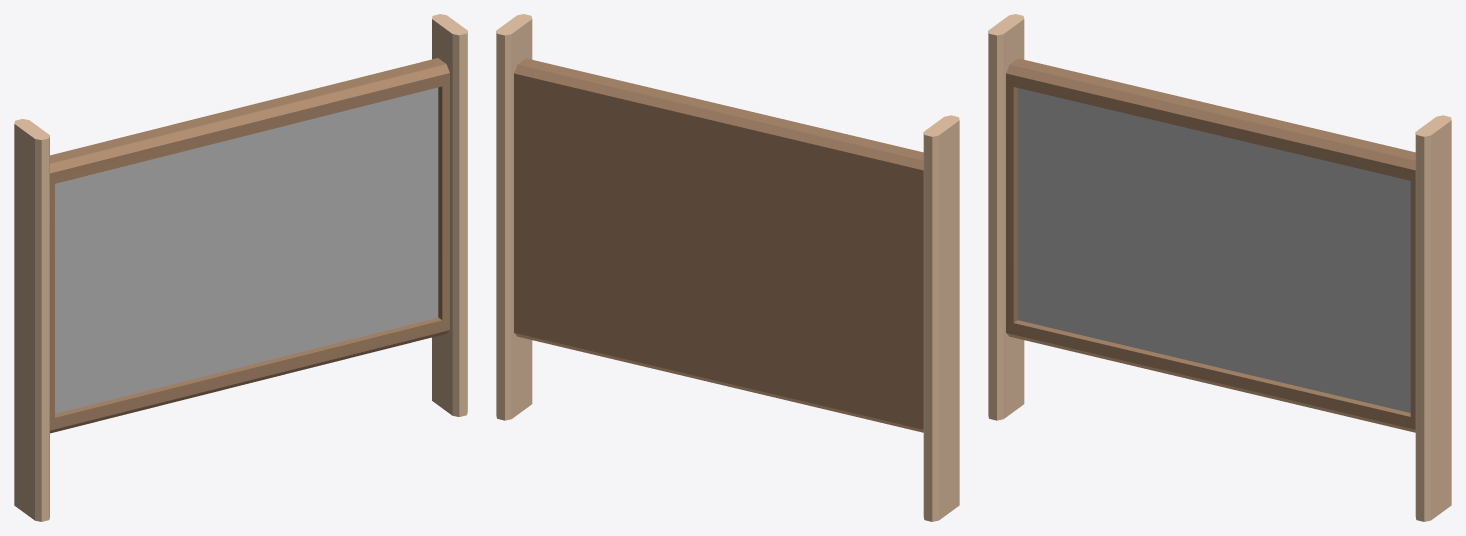
Rendered from Roadside Billboard 2.fbx.
3 views of the same model, side by side, from view 1: azimuth 30°, elevation 25°; view 2: azimuth 150°, elevation 25°; view 3: azimuth 330°, elevation 25° (orthographic).
Visible parts, largest first — view 1: Roadside Billboard 2; view 2: Roadside Billboard 2; view 3: Roadside Billboard 2.
Part boxes in pixels (bbox=[...]): Roadside Billboard 2: bbox=[14, 14, 467, 521]; Roadside Billboard 2: bbox=[496, 14, 959, 521]; Roadside Billboard 2: bbox=[988, 14, 1451, 521].
Size of the model in its own units: 4.83 by 0.5688 by 4.05.
